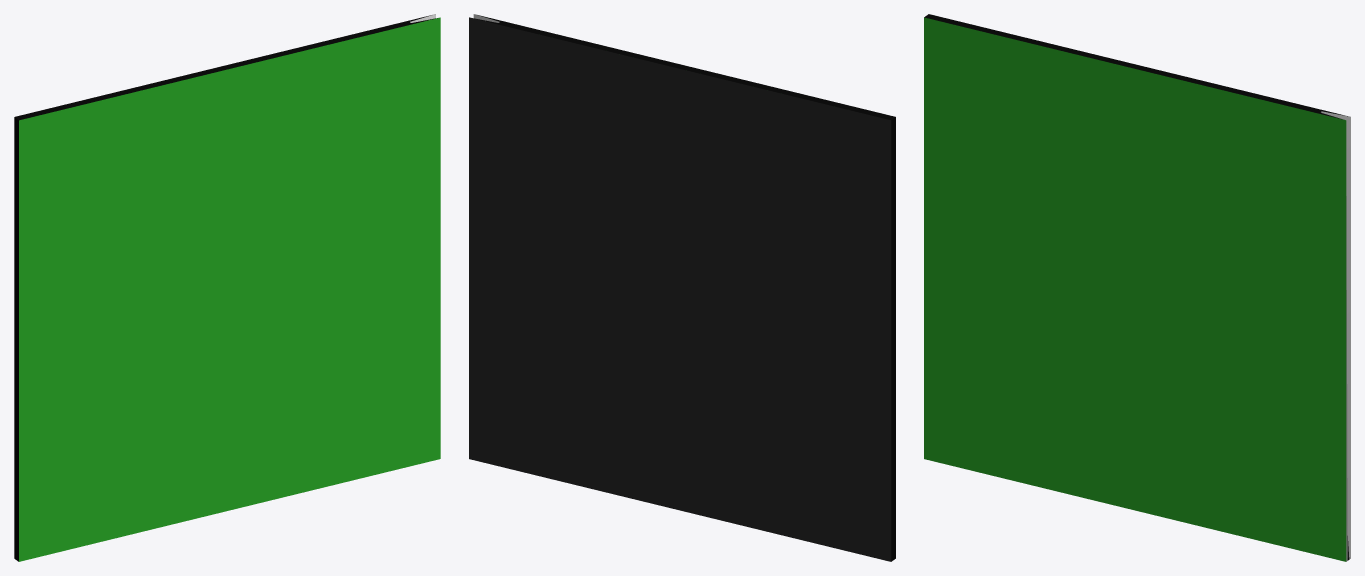
The model's file is record-transformed.glb.
3 renders of one model, left to right at view 1: azimuth 30°, elevation 25°; view 2: azimuth 150°, elevation 25°; view 3: azimuth 330°, elevation 25°, orthographic.
Parts seen in each view (by area): view 1: Cover; view 2: Cover; view 3: Cover.
Part boxes in pixels (left/top/right/bottom): Cover: left=14, top=14, right=440, bottom=561; Cover: left=469, top=14, right=895, bottom=561; Cover: left=924, top=14, right=1350, bottom=561.
Size of the model in its own units: 0.2625 by 0.2625 by 0.00513.
